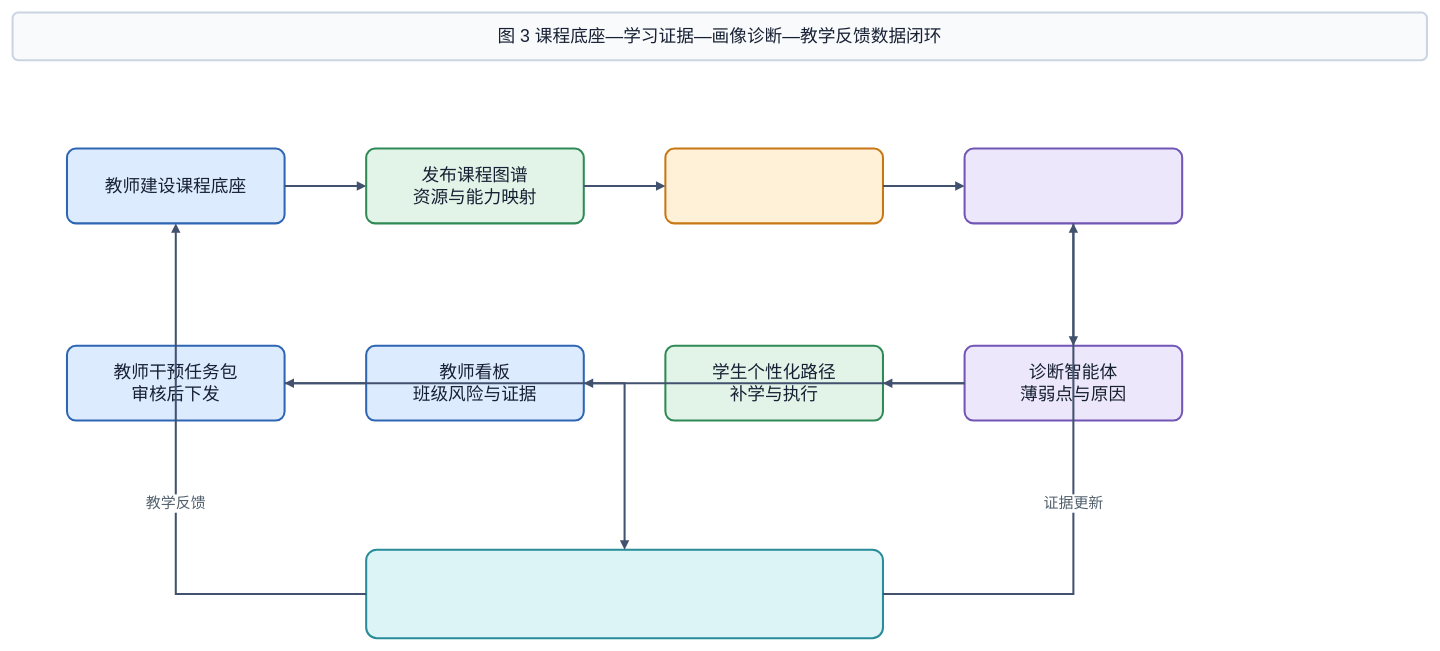
Some shapes in this 1440 by 651 pixel diagram are drawn without their labels. The shapes that lost their labels are listed below. From the top down, each one's box as (x1, y1, x2, y2) in pixels, then its label:
(664, 147, 884, 224): 学生学习 资源/测验/作业/互动
(963, 147, 1183, 224): 学生数字孪生 画像与快照
(365, 548, 884, 639): 结果回流 画像更新 / 路径调整 / 课程维护 / 教师画像事件
